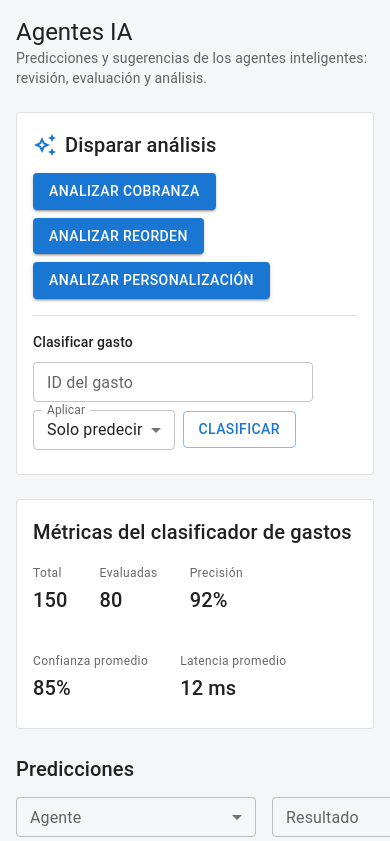
Scenario: AgentesPage › dispara el análisis de cobranza
What coordinates should you click on to do the following:
click the button "Analizar cobranza"
I would click on:
 (124, 191)
Its box is left=33, top=173, right=216, bottom=210.
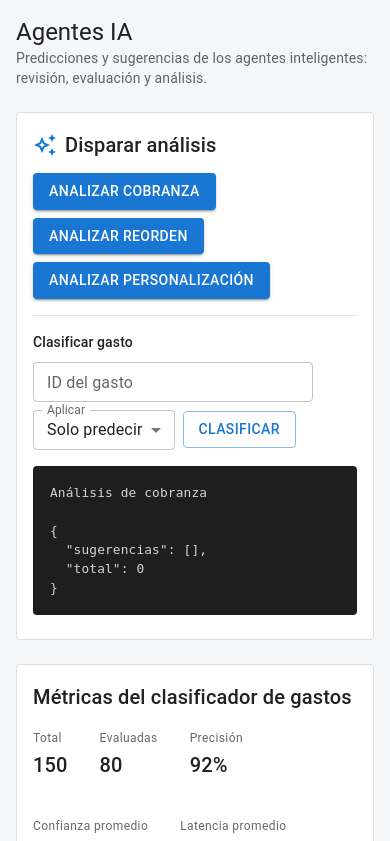
Expected: the text "Análisis de cobranza { \"sugerencias\": [], \"total\": 0 }" is shown, left=33, top=466, right=357, bottom=615
